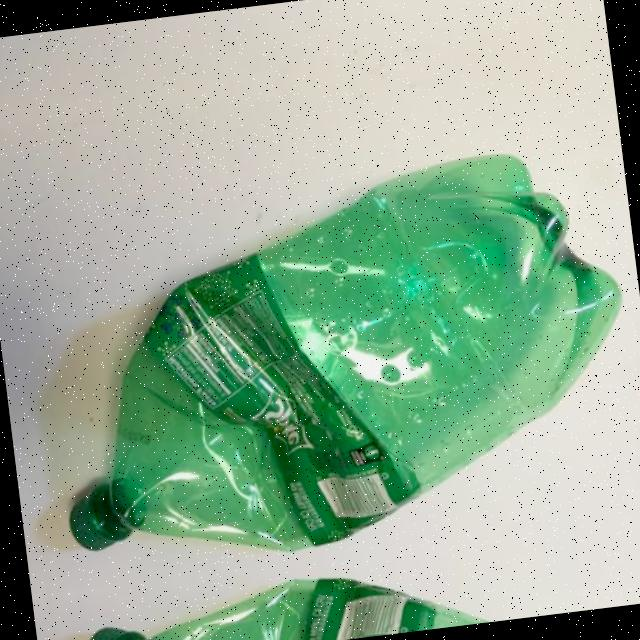Plastic: (10, 128, 640, 585), (59, 527, 640, 640)
